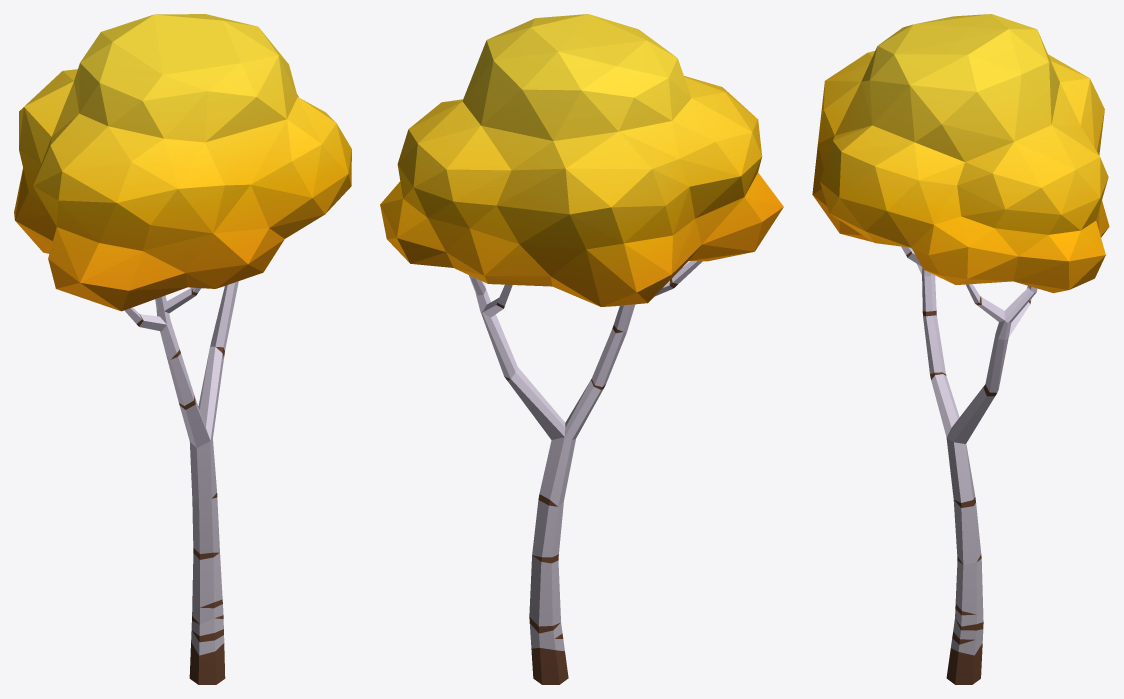
File: Tree_Birch_04.fbx
3 renders of one model, left to right at view 1: azimuth 30°, elevation 25°; view 2: azimuth 150°, elevation 25°; view 3: azimuth 270°, elevation 25°, orthographic. The views are drawn at different scales.
Visible parts, largest first — view 1: Tree_Birch_04; view 2: Tree_Birch_04; view 3: Tree_Birch_04.
Part boxes in pixels (x1,y1,x2,y2): Tree_Birch_04: [14, 14, 351, 684]; Tree_Birch_04: [380, 14, 783, 684]; Tree_Birch_04: [812, 14, 1109, 684].
Bounding box in the file's own units: 275 × 536 × 227.
